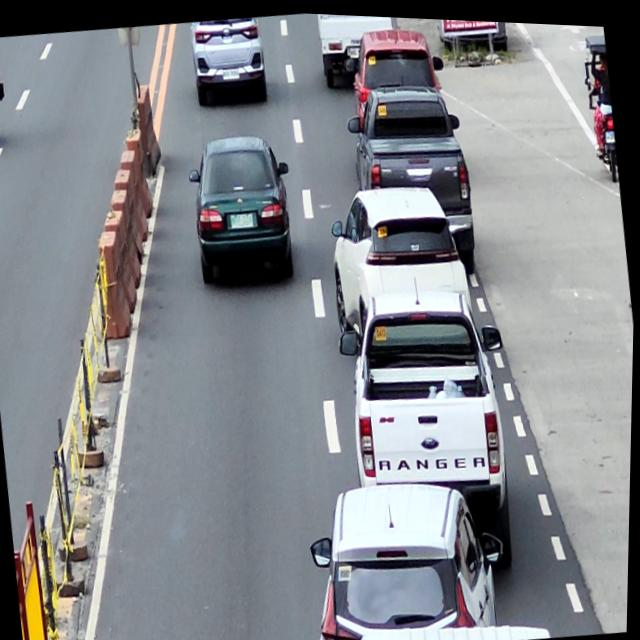Car: (330, 277, 530, 582), (301, 463, 516, 640), (342, 70, 483, 282), (323, 172, 478, 342), (183, 127, 303, 288), (341, 17, 452, 130), (187, 12, 271, 109), (314, 11, 405, 85), (0, 36, 11, 146)
License-Plate: (230, 209, 254, 228), (221, 64, 240, 78), (347, 42, 361, 56)
